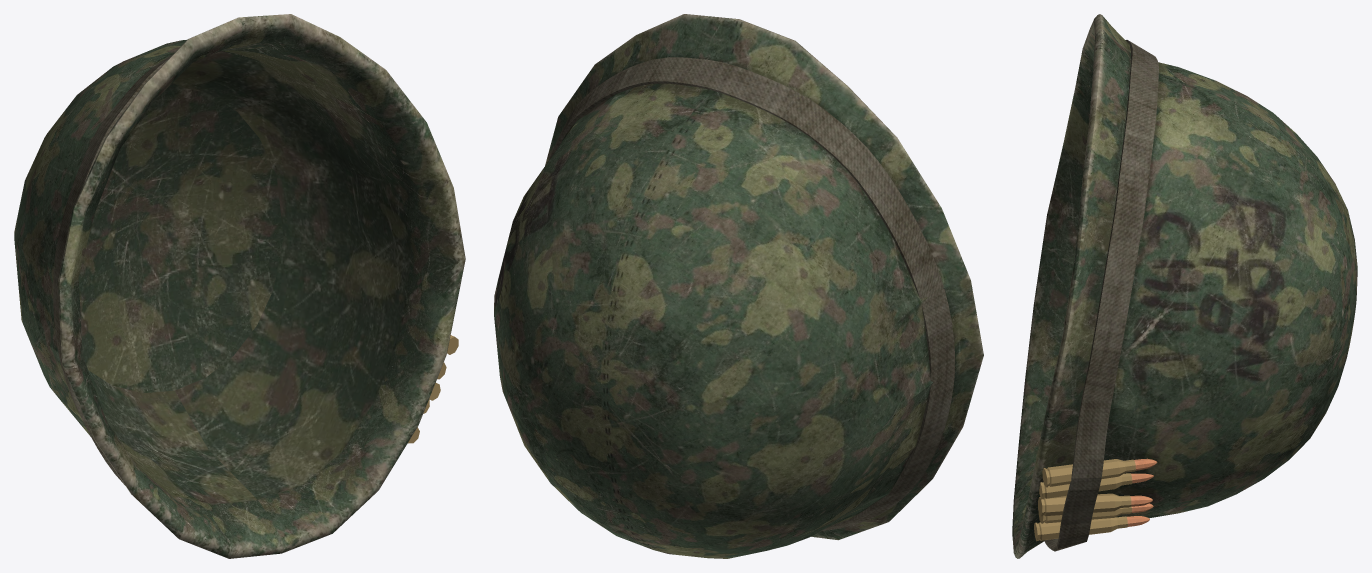
Rendered from helmet.glb.
3 views of the same model, side by side, from view 1: azimuth 30°, elevation 25°; view 2: azimuth 150°, elevation 25°; view 3: azimuth 270°, elevation 25° (orthographic). The views are drawn at different scales.
Parts seen in each view (by area): view 1: Helm; view 2: Helm; view 3: Helm.
Part boxes in pixels (<box>): Helm: <box>14,14,465,558</box>; Helm: <box>494,14,983,558</box>; Helm: <box>1012,14,1357,558</box>.
Bounding box in the file's own units: 153 × 183 × 113.
Materials: 3 (3 with a texture image).
